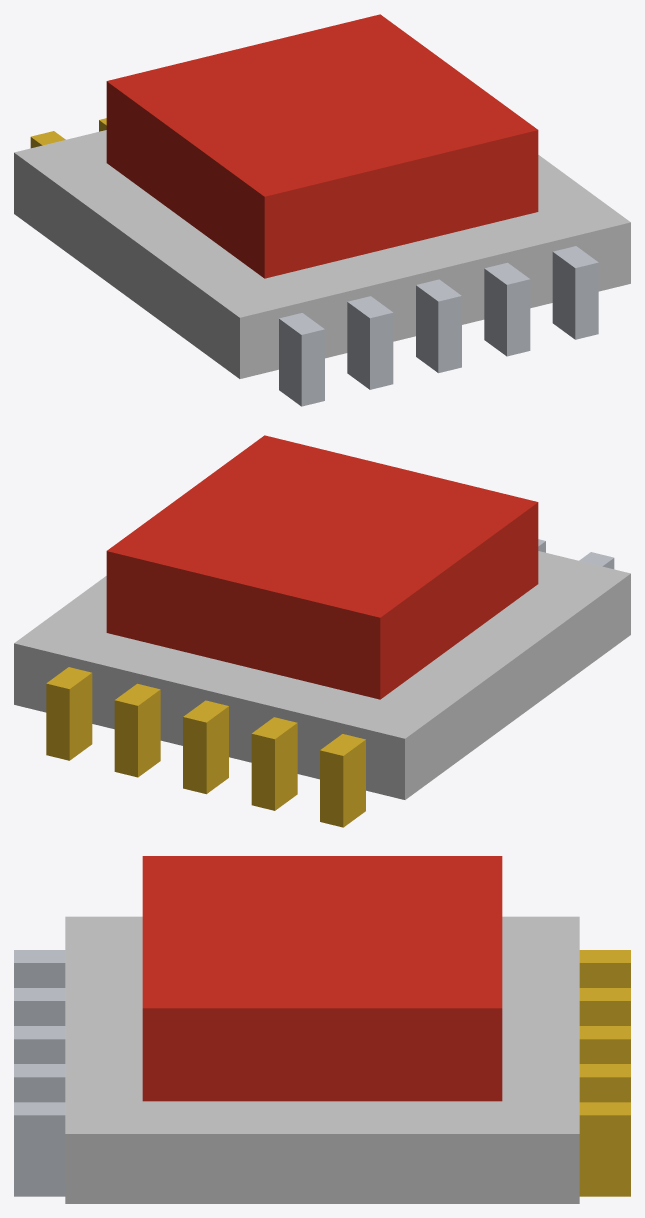
The model's file is damage_perk.obj.
3 renders of one model, top to bottom at view 1: azimuth 30°, elevation 25°; view 2: azimuth 150°, elevation 25°; view 3: azimuth 270°, elevation 25°, orthographic. The views are drawn at different scales.
Parts seen in each view (by area): view 1: damage_perk; view 2: damage_perk; view 3: damage_perk.
Boxes of the visible parts, <box> form: damage_perk: <box>14,14,630,406</box>; damage_perk: <box>14,435,630,827</box>; damage_perk: <box>14,856,630,1203</box>.
Size of the model in its own units: 0.2 by 0.08 by 0.24.
